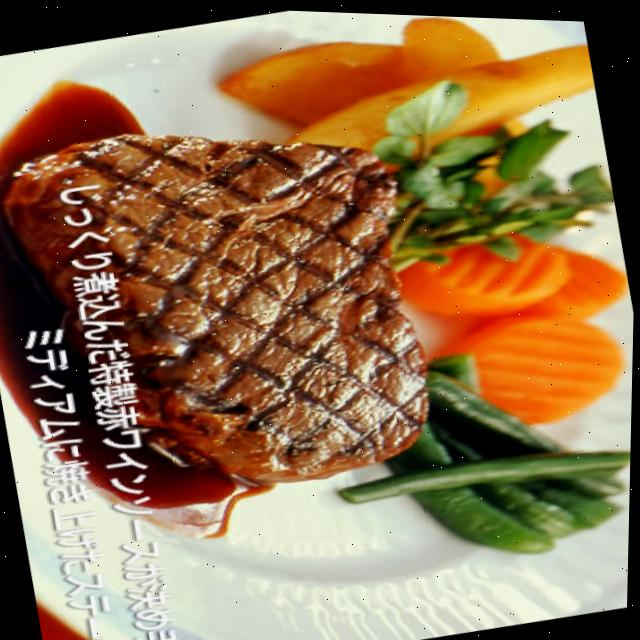牛肉菜式: (0, 74, 484, 528)
